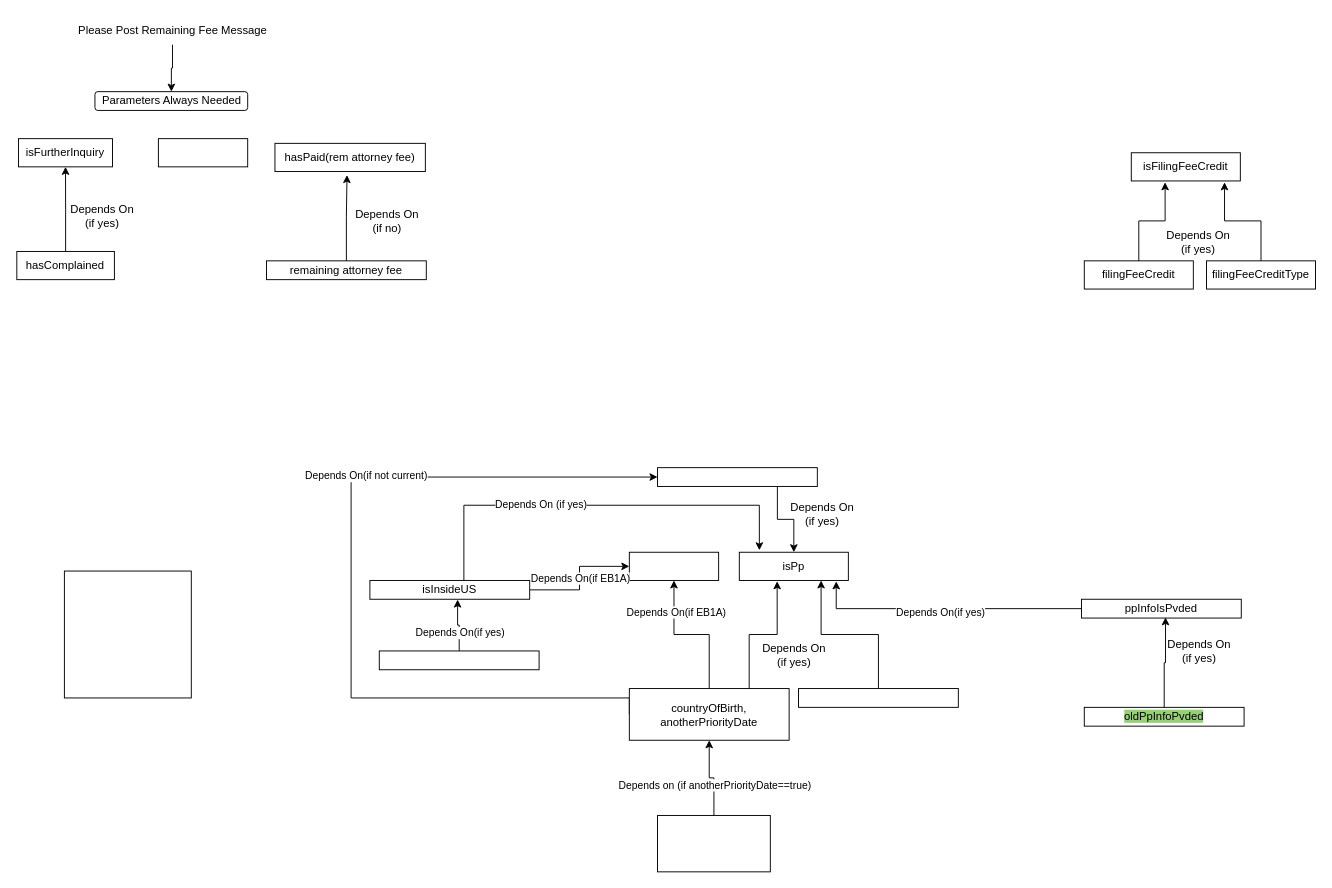
The diagram is 1332 pixels wide and 888 high, and some of its shapes have lost their labels. The shapes that lost their labels are listed below. From the top down, each one's centre as x and y in pixels, then its label:
the point at 202,152: isCaseSpecific
the point at 737,476: priorityDateIsCurrent
the point at 673,565: usersCase
the point at 127,634: Params to be deleted: -service center specific processing time -
the point at 458,660: h1bIsExpiring
the point at 878,697: service center
the point at 713,843: exactPD, isPDApproved, anotherCaseType
